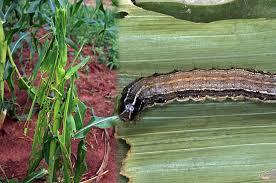fallarmy_worm: (113, 64, 276, 128)
